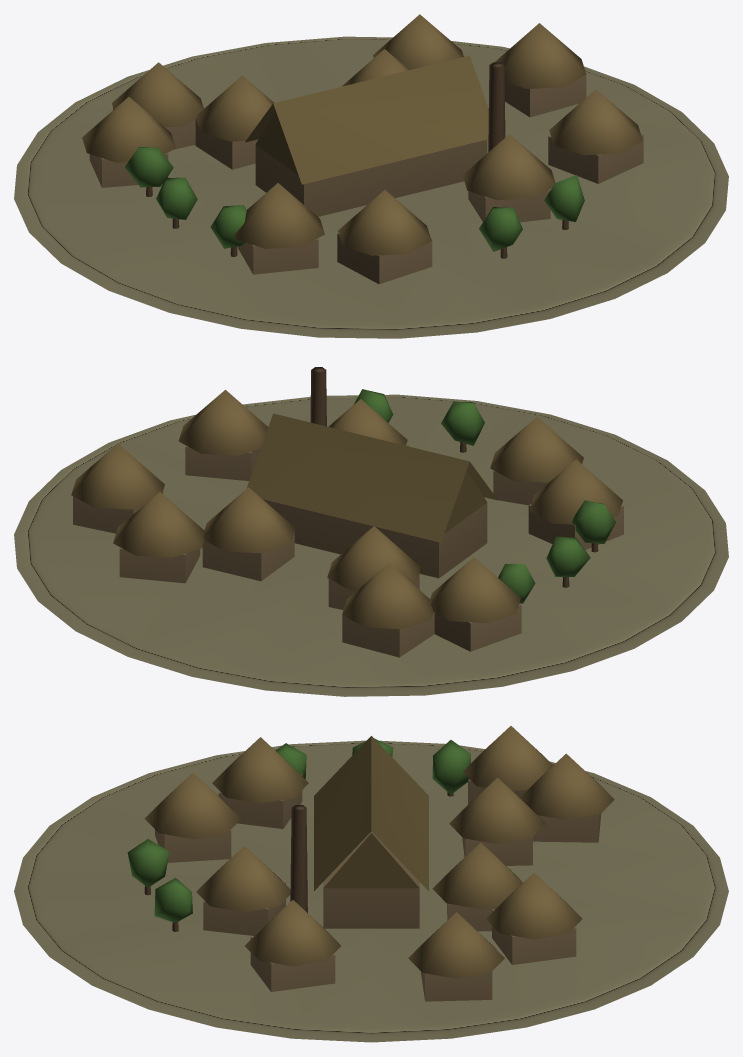
Rendered from settlement_3_0.glb.
The picture shows the model from 3 angles, top to bottom: view 1: azimuth 30°, elevation 25°; view 2: azimuth 150°, elevation 25°; view 3: azimuth 270°, elevation 25°; orthographic projection.
Visible parts, largest first — view 1: part_0; view 2: part_0; view 3: part_0.
Part boxes in pixels (x1,y1,x2,y2): part_0: (14,14,728,338); part_0: (14,367,728,696); part_0: (14,726,728,1042).
Size of the model in its own units: 30.8 by 6.04 by 30.8.
